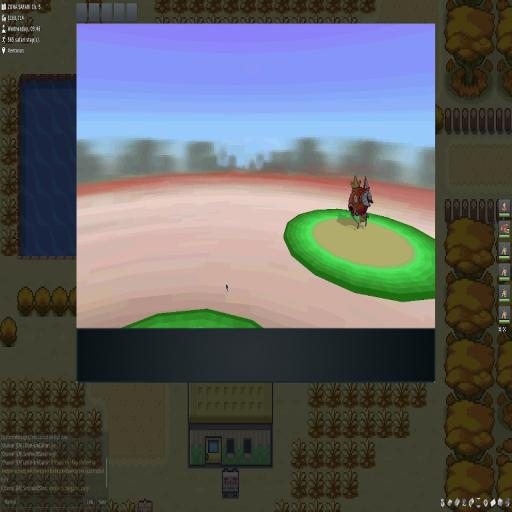MAGIKARP: (346, 174, 372, 230)
